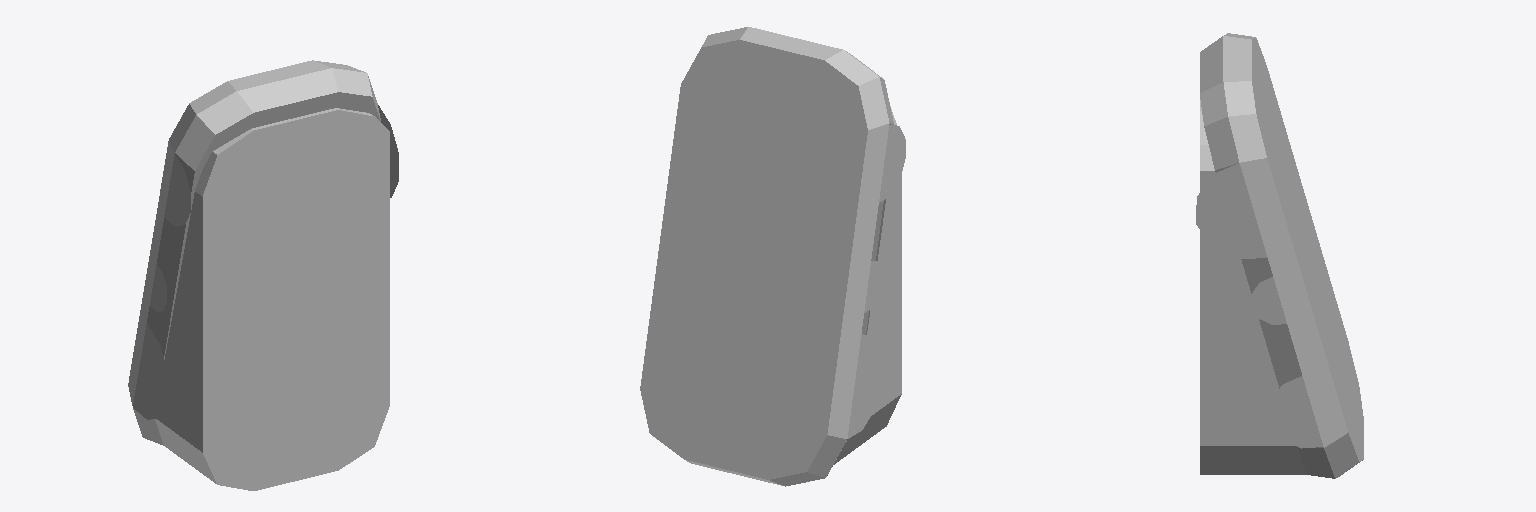
The model's file is block-snow-overhang-large-slope-narrow.obj.
3 renders of one model, left to right at view 1: azimuth 30°, elevation 25°; view 2: azimuth 150°, elevation 25°; view 3: azimuth 270°, elevation 25°, orthographic.
Parts seen in each view (by area): view 1: block-snow-overhang-large-slope-narrow; view 2: block-snow-overhang-large-slope-narrow; view 3: block-snow-overhang-large-slope-narrow.
Part boxes in pixels (left/top/right/bottom): block-snow-overhang-large-slope-narrow: left=128, top=60, right=398, bottom=490; block-snow-overhang-large-slope-narrow: left=640, top=27, right=905, bottom=486; block-snow-overhang-large-slope-narrow: left=1196, top=33, right=1363, bottom=478.
Size of the model in its own units: 1.08 by 2.01 by 0.7751.